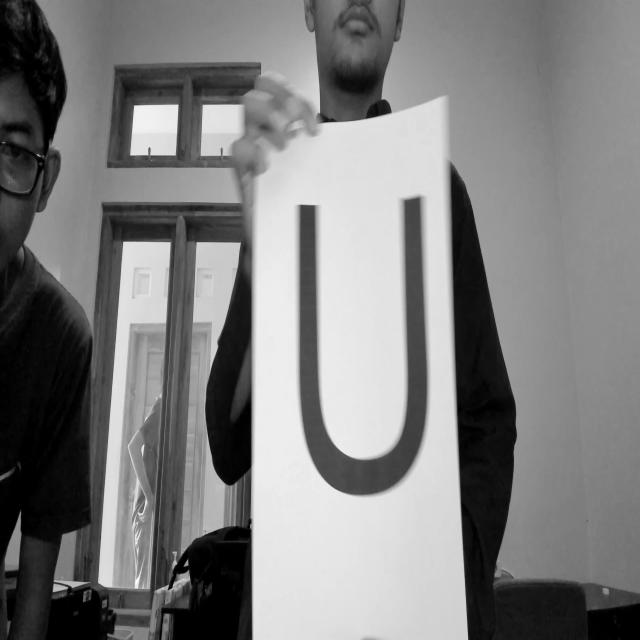u: (286, 185, 450, 498)
